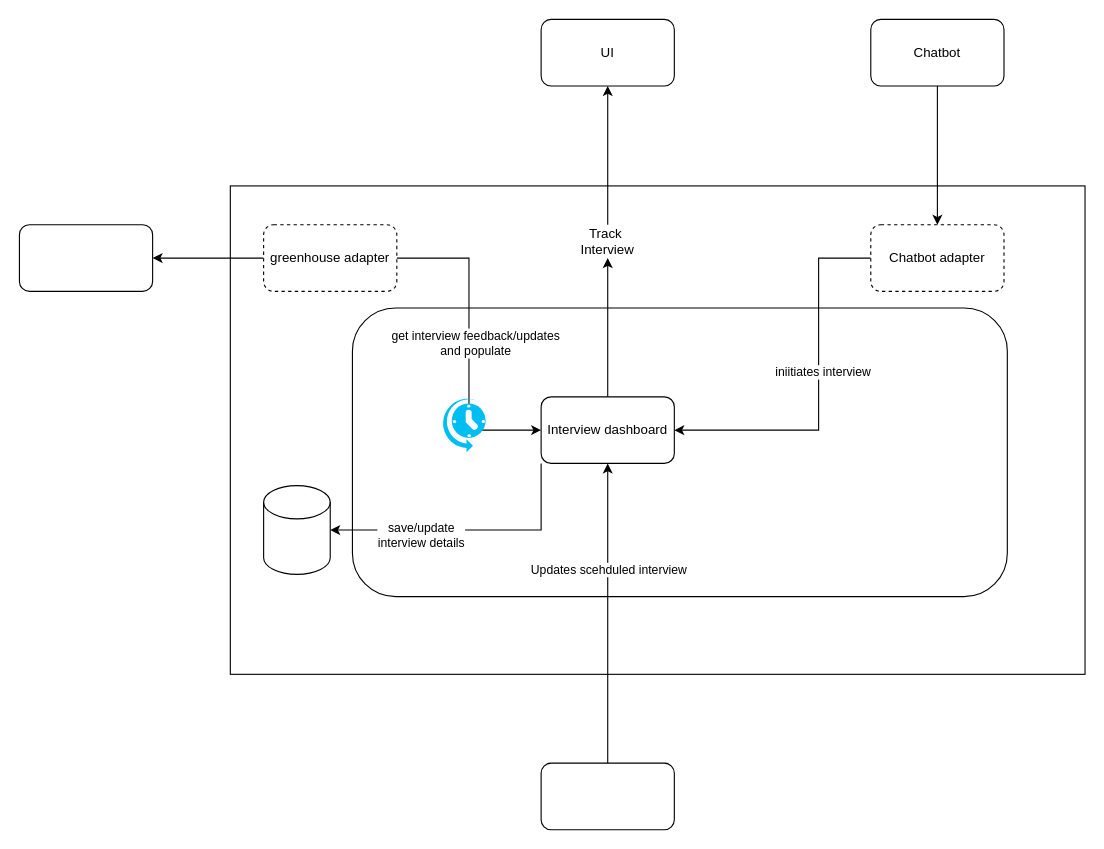
Image size: 1104x849. Some labels were removed from this diagram. Here are the shapes that lost their labels. From the top down, the centre of each, then its label:
At point (85, 257): "Greenhouse".
At point (607, 796): "Scheduling service".
